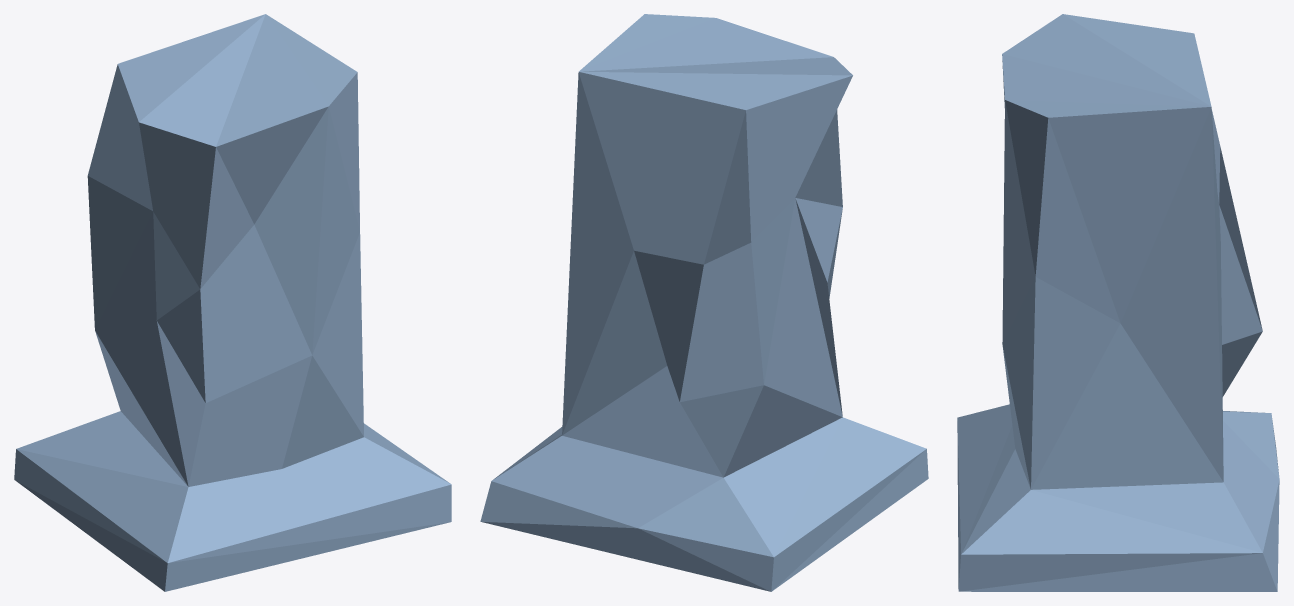
The model's file is BreakablePillar.fbx.
3 views of the same model, side by side, from view 1: azimuth 30°, elevation 25°; view 2: azimuth 150°, elevation 25°; view 3: azimuth 270°, elevation 25° (orthographic). The views are drawn at different scales.
Parts seen in each view (by area): view 1: Cube.040; view 2: Cube.040; view 3: Cube.040.
Boxes of the visible parts, x1=… form: Cube.040: x1=14, y1=14, x2=451, y2=591; Cube.040: x1=480, y1=14, x2=928, y2=591; Cube.040: x1=957, y1=14, x2=1279, y2=591.
Size of the model in its own units: 760 by 1096 by 708.
